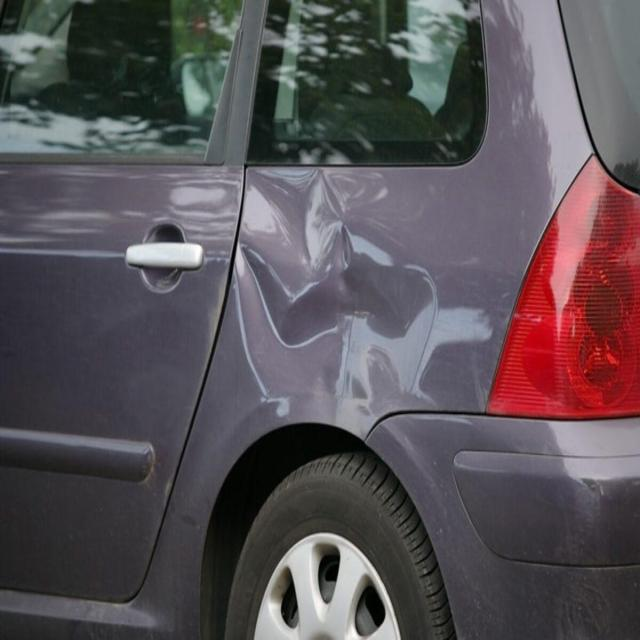dent: (230, 165, 453, 441)
